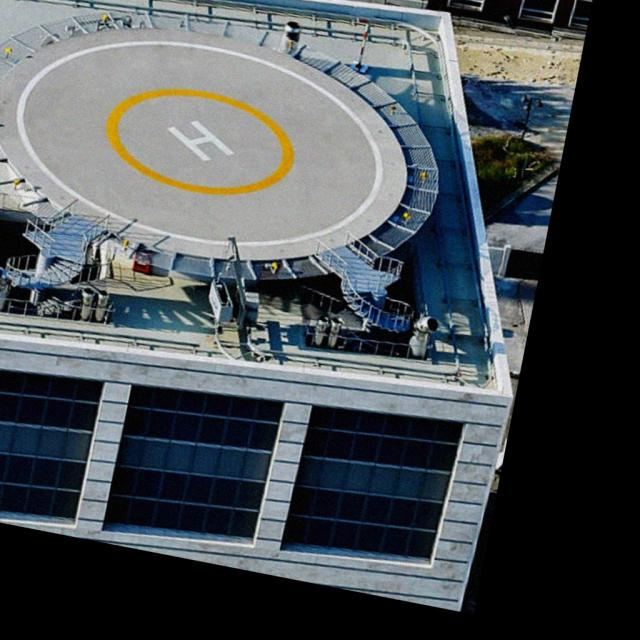helipad: (100, 85, 298, 200)
